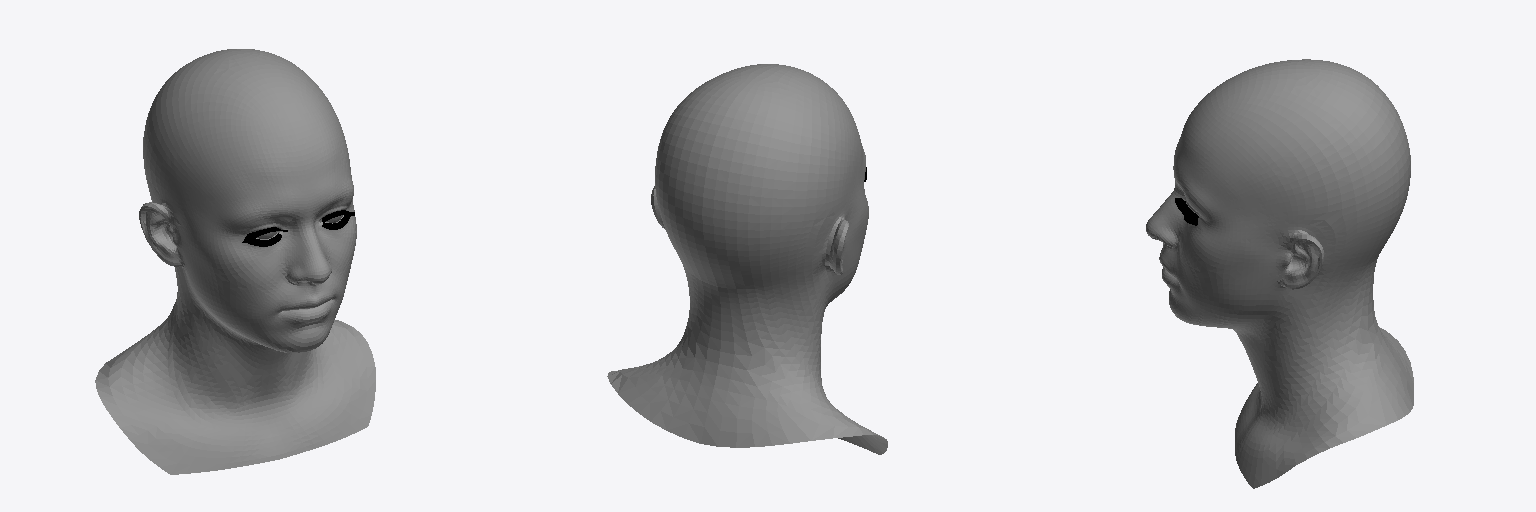
Rendered from identity013.obj.
3 views of the same model, side by side, from view 1: azimuth 30°, elevation 25°; view 2: azimuth 150°, elevation 25°; view 3: azimuth 270°, elevation 25° (orthographic).
Size of the model in its own units: 24.99 by 34.02 by 22.09.